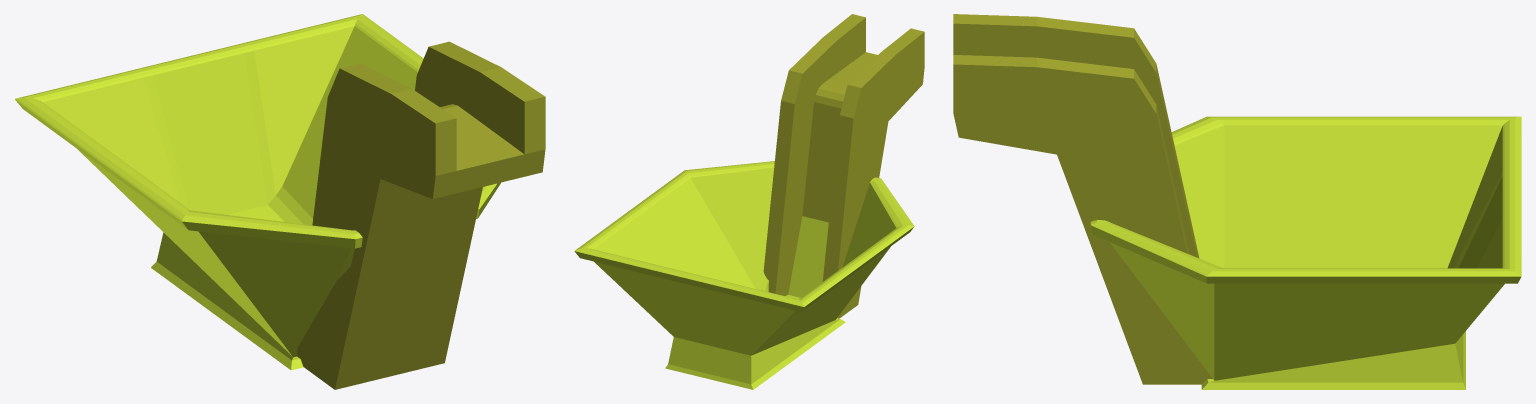
File: elevator basin combo.fbx
3 views of the same model, side by side, from view 1: azimuth 30°, elevation 25°; view 2: azimuth 150°, elevation 25°; view 3: azimuth 270°, elevation 25° (orthographic). The views are drawn at different scales.
Visible parts, largest first — view 1: basin, elevator; view 2: basin, elevator; view 3: basin, elevator.
Boxes of the visible parts, x1,y1,x2,y2 form: basin: [15, 14, 500, 370]; elevator: [297, 41, 545, 389]; basin: [574, 161, 914, 389]; elevator: [763, 14, 924, 318]; basin: [1090, 116, 1521, 389]; elevator: [953, 14, 1212, 384].
Bounding box in the file's own units: 634 × 592 × 951.
